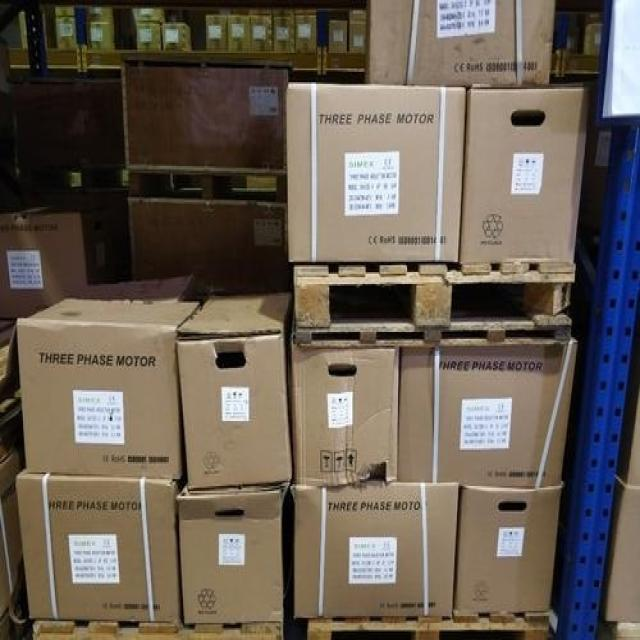box: (15, 298, 201, 479), (285, 82, 467, 262), (398, 335, 577, 489), (15, 467, 186, 628), (288, 479, 460, 619), (460, 87, 589, 264), (177, 293, 293, 489), (288, 311, 399, 488), (365, 0, 556, 89), (174, 484, 289, 625), (454, 486, 561, 618), (0, 205, 114, 318), (599, 472, 640, 623), (617, 315, 640, 486), (69, 276, 196, 303), (86, 7, 122, 50), (55, 7, 77, 50), (228, 14, 251, 51), (274, 15, 296, 53), (252, 15, 273, 53), (296, 15, 316, 53), (206, 15, 227, 50), (163, 24, 191, 50), (136, 22, 161, 50), (329, 19, 348, 53), (582, 24, 602, 55), (348, 21, 366, 55), (132, 9, 164, 24)
